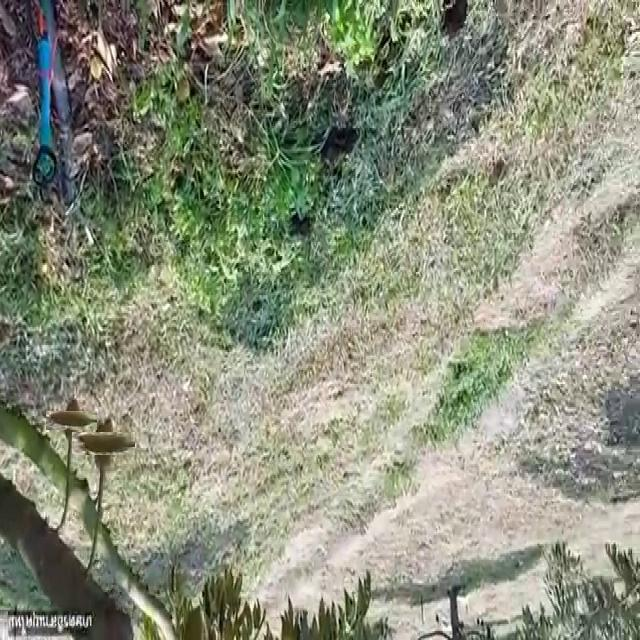durian: (82, 422, 125, 465), (53, 403, 89, 438)
